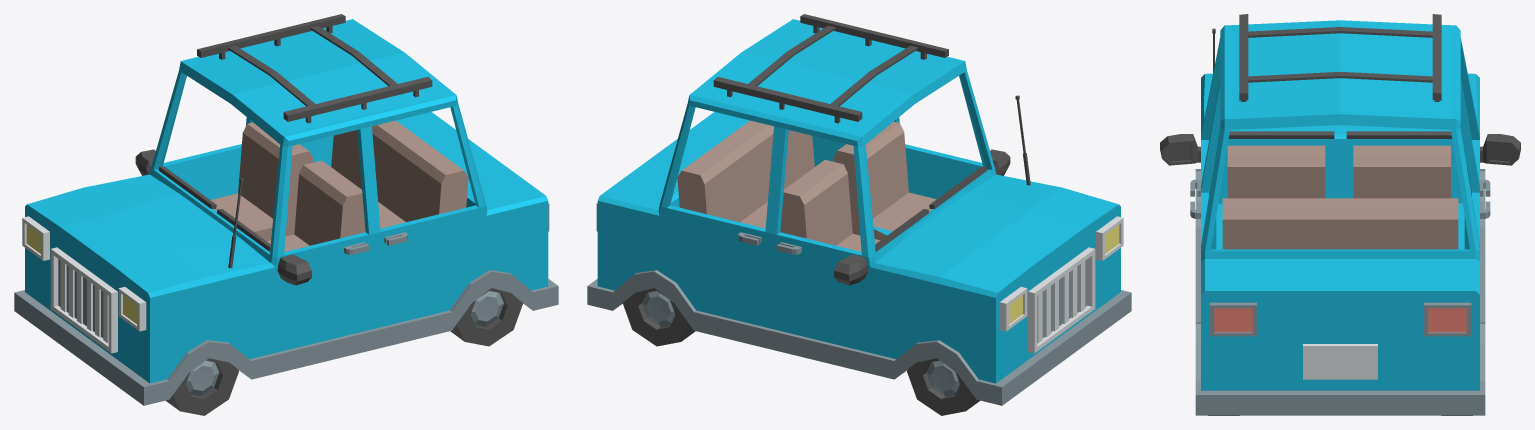
File: final_car.glb
3 views of the same model, side by side, from view 1: azimuth 30°, elevation 25°; view 2: azimuth 150°, elevation 25°; view 3: azimuth 270°, elevation 25° (orthographic). The views are drawn at different scales.
Visible parts, largest first — view 1: car_01_Cube.004; view 2: car_01_Cube.004; view 3: car_01_Cube.004.
Part boxes in pixels (box(x1,y1,x2,y2)): car_01_Cube.004: box(14, 14, 558, 415); car_01_Cube.004: box(587, 14, 1131, 415); car_01_Cube.004: box(1160, 14, 1520, 415).
Bounding box in the file's own units: 323 × 200 × 218.
